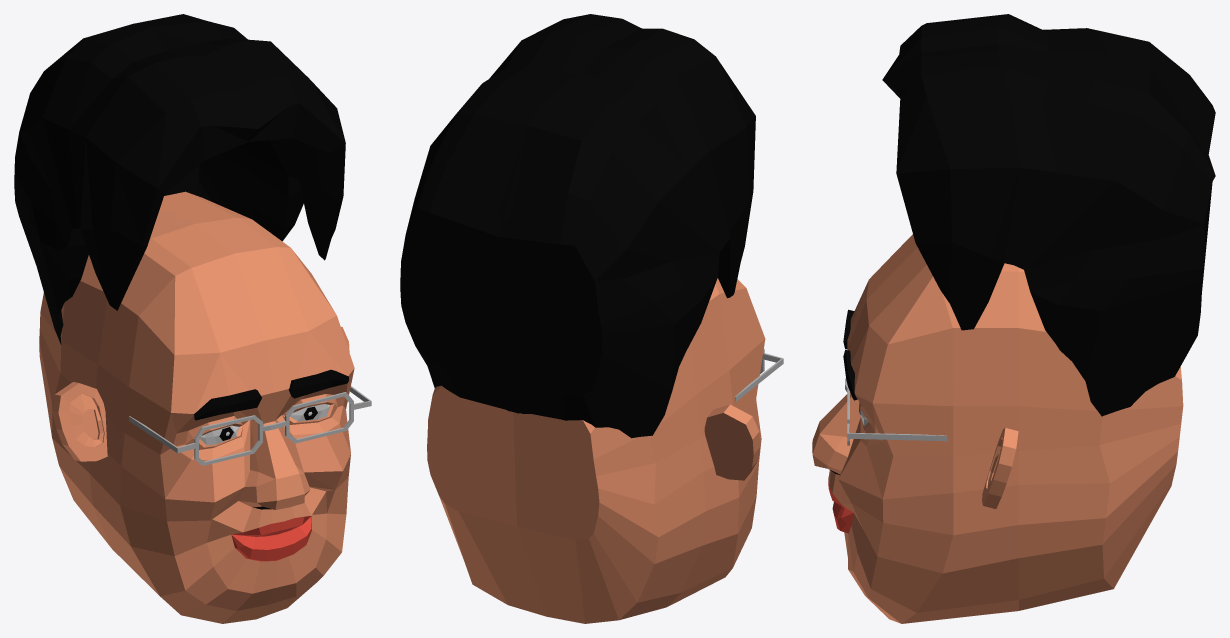
The picture shows the model from 3 angles, left to right: view 1: azimuth 30°, elevation 25°; view 2: azimuth 150°, elevation 25°; view 3: azimuth 270°, elevation 25°; orthographic projection. The views are drawn at different scales.
Visible parts, largest first — view 1: Cube, hear, Cylinder, Plane.001, Plane; view 2: hear, Cube, Cylinder, Plane.001; view 3: hear, Cube, Cylinder, Plane.001, Plane.
Part boxes in pixels (x1,y1,x2,y2): Cube: (39, 191, 354, 623); hear: (14, 14, 345, 344); Cylinder: (52, 327, 349, 461); Plane.001: (129, 386, 371, 465); Plane: (193, 369, 348, 420); hear: (400, 14, 755, 438); Cube: (427, 278, 765, 623); Cylinder: (704, 404, 760, 480); Plane.001: (735, 348, 783, 402); hear: (882, 14, 1215, 416); Cube: (812, 234, 1183, 623); Cylinder: (982, 428, 1018, 508); Plane.001: (845, 378, 947, 445); Plane: (843, 309, 857, 400).
Size of the model in its own units: 1.37 by 2.38 by 1.54.
